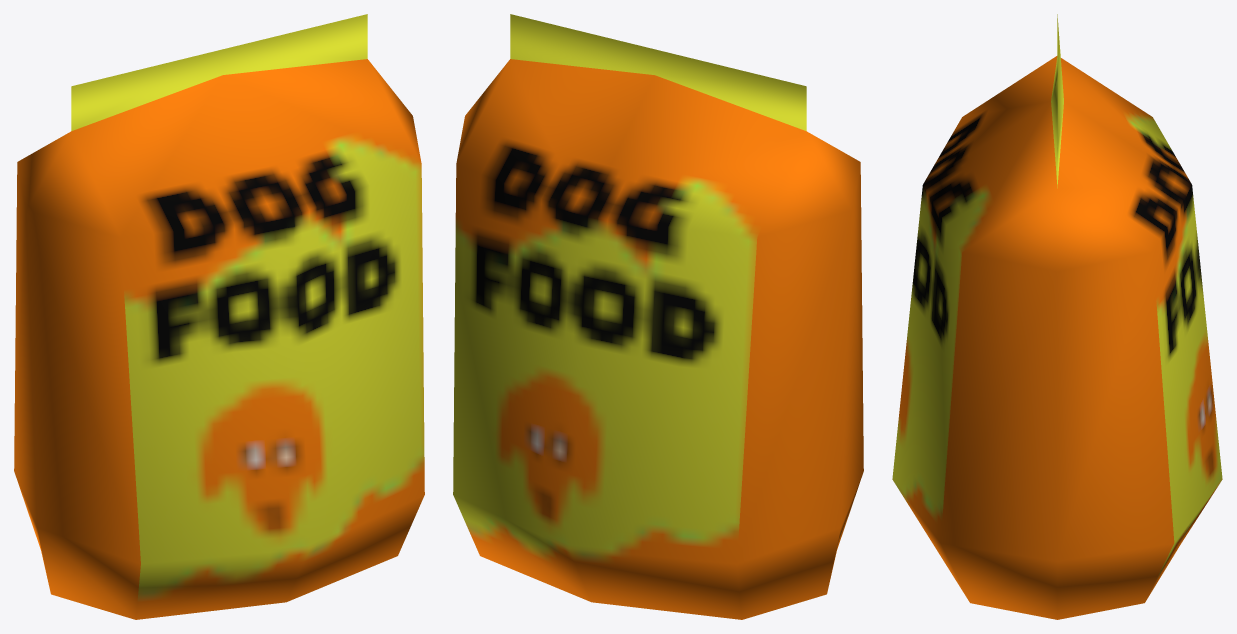
The model's file is Dogfood.fbx.
3 renders of one model, left to right at view 1: azimuth 30°, elevation 25°; view 2: azimuth 150°, elevation 25°; view 3: azimuth 270°, elevation 25°, orthographic. The views are drawn at different scales.
Visible parts, largest first — view 1: Dogfood_1; view 2: Dogfood_1; view 3: Dogfood_1.
Part boxes in pixels (x1,y1,x2,y2): Dogfood_1: (14, 14, 424, 619); Dogfood_1: (453, 14, 863, 619); Dogfood_1: (892, 14, 1222, 619).
Bounding box in the file's own units: 52.66 × 65.43 × 42.23.
